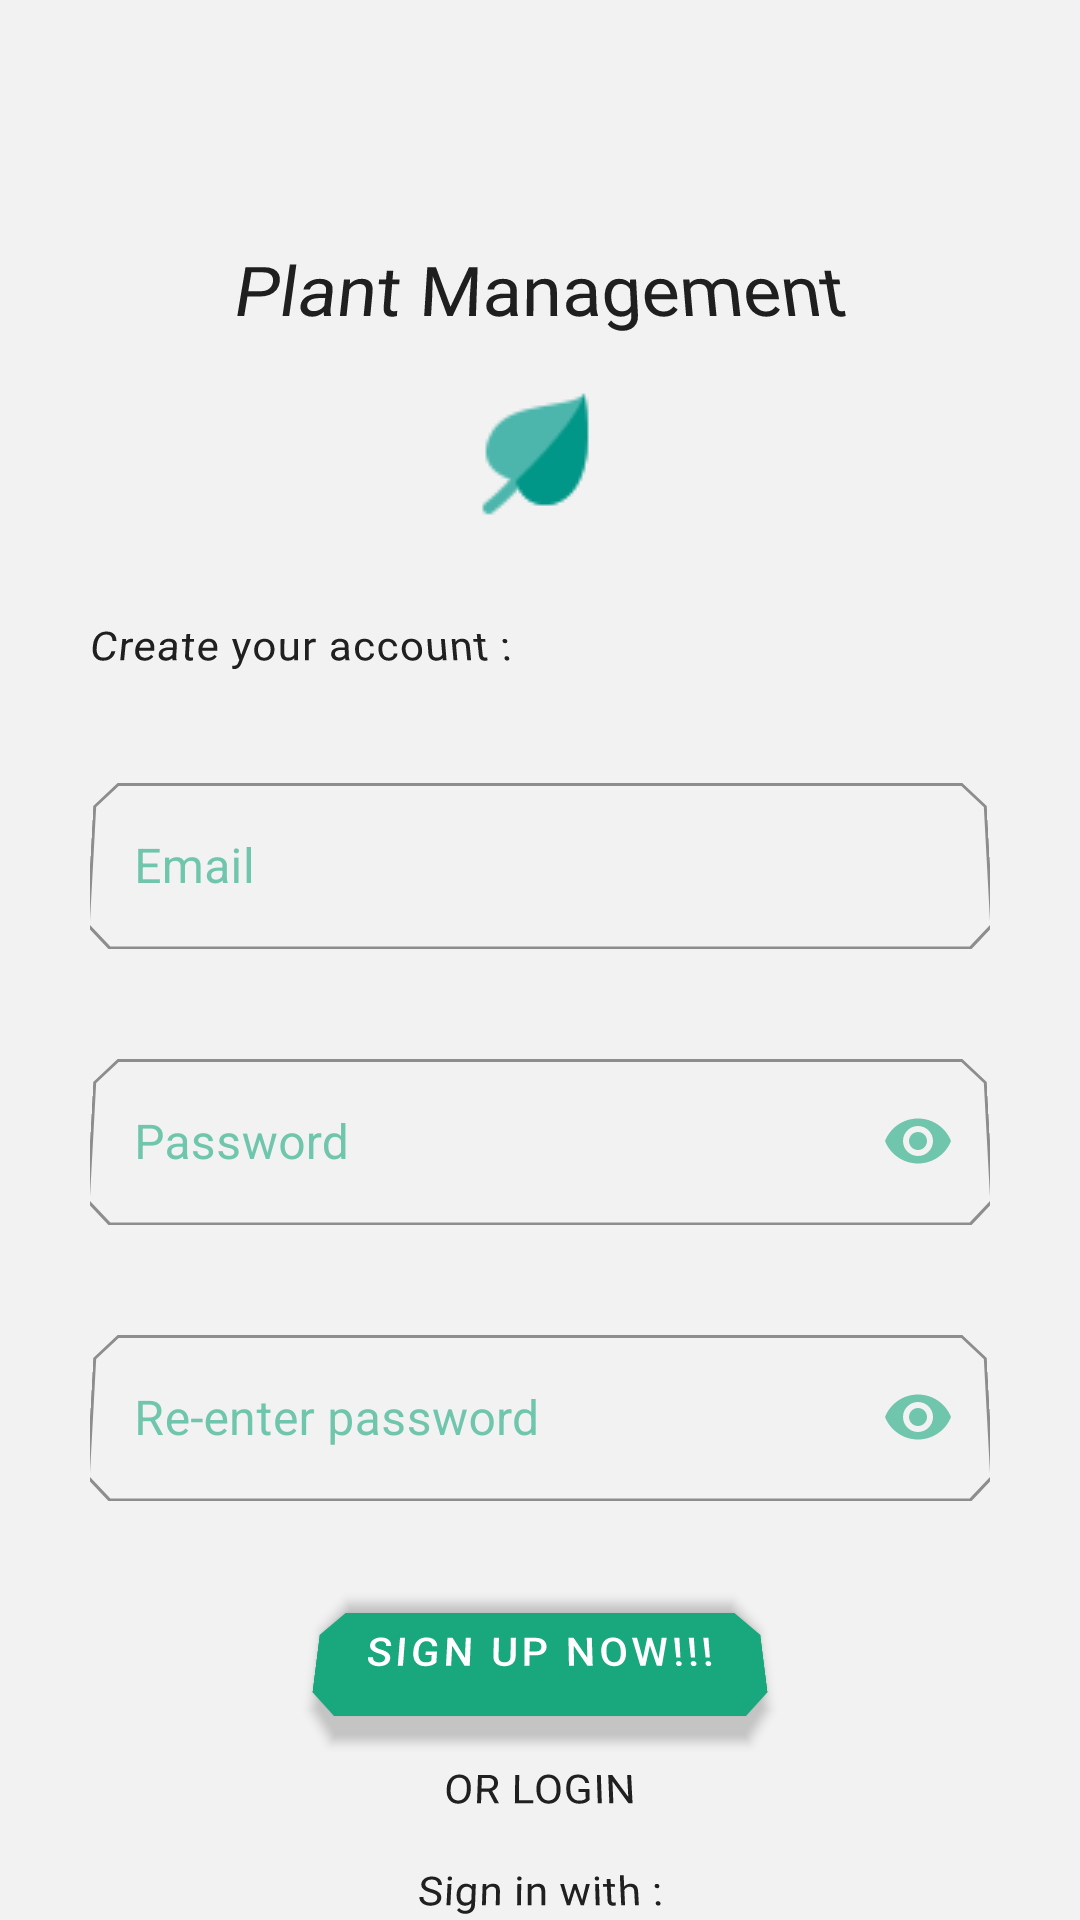

Point at icon controls on the screen. Image size 1080w x 1920h, points as point (x, y).
leaf: point (535, 454)
